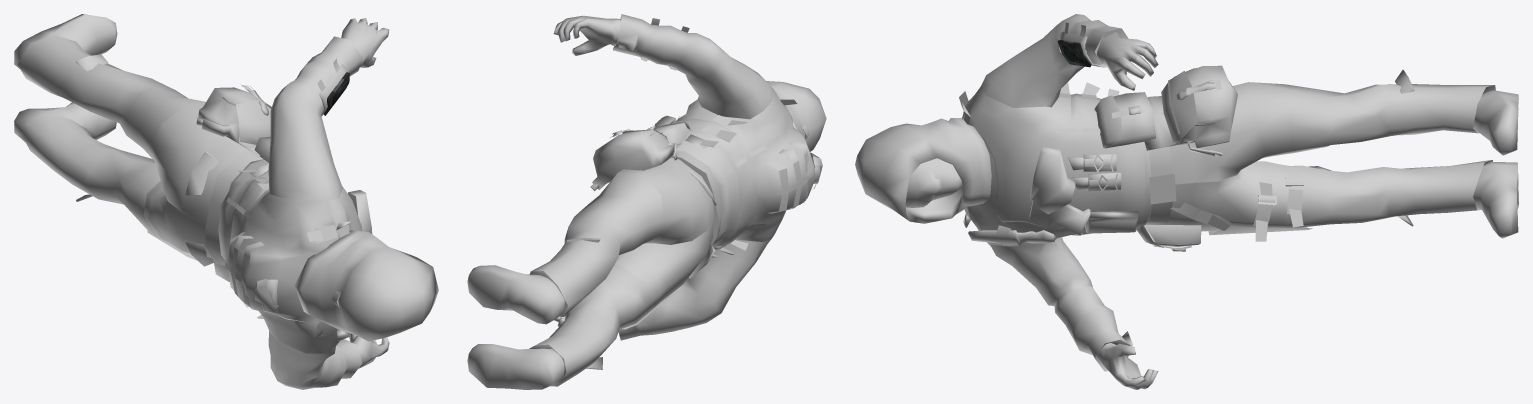
Rendered from c_mul_mp_pmc_sniper_fb_LOD1.obj.
The picture shows the model from 3 angles, left to right: view 1: azimuth 30°, elevation 25°; view 2: azimuth 150°, elevation 25°; view 3: azimuth 270°, elevation 25°; orthographic projection. The views are drawn at different scales.
Visible parts, largest first — view 1: mtl_c_mul_mp_pmc_snip_gear, mtl_c_mul_mp_pmc_lbr_2_1, mtl_c_mul_mp_pmc_upperbody2, mtl_c_mul_mp_pmc_gear_main_1, mtl_c_mul_mp_pmc_gloves2, mtl_c_gen_mp_datapad; view 2: mtl_c_mul_mp_pmc_lbr_2_1, mtl_c_mul_mp_pmc_snip_gear, mtl_c_mul_mp_pmc_upperbody2, mtl_c_mul_mp_pmc_gear_main_1, mtl_c_mul_mp_pmc_gloves2; view 3: mtl_c_mul_mp_pmc_snip_gear, mtl_c_mul_mp_pmc_lbr_2_1, mtl_c_mul_mp_pmc_upperbody2, mtl_c_mul_mp_pmc_gear_main_1, mtl_c_mul_mp_pmc_gloves2, mtl_c_gen_mp_datapad.
Boxes of the visible parts, <box> form: mtl_c_mul_mp_pmc_snip_gear: <box>196,36,438,389</box>; mtl_c_mul_mp_pmc_lbr_2_1: <box>17,35,248,266</box>; mtl_c_mul_mp_pmc_upperbody2: <box>218,159,362,353</box>; mtl_c_mul_mp_pmc_gear_main_1: <box>14,14,356,342</box>; mtl_c_mul_mp_pmc_gloves2: <box>341,18,389,368</box>; mtl_c_gen_mp_datapad: <box>323,72,349,115</box>; mtl_c_mul_mp_pmc_lbr_2_1: <box>529,157,716,386</box>; mtl_c_mul_mp_pmc_snip_gear: <box>590,14,826,340</box>; mtl_c_mul_mp_pmc_upperbody2: <box>676,90,815,257</box>; mtl_c_mul_mp_pmc_gear_main_1: <box>467,152,822,389</box>; mtl_c_mul_mp_pmc_gloves2: <box>553,15,620,326</box>; mtl_c_mul_mp_pmc_snip_gear: <box>855,14,1237,371</box>; mtl_c_mul_mp_pmc_lbr_2_1: <box>1166,69,1495,241</box>; mtl_c_mul_mp_pmc_upperbody2: <box>959,82,1151,247</box>; mtl_c_mul_mp_pmc_gear_main_1: <box>968,90,1518,245</box>; mtl_c_mul_mp_pmc_gloves2: <box>1096,32,1158,389</box>; mtl_c_gen_mp_datapad: <box>1058,40,1091,67</box>.
Size of the model in its own units: 67.54 by 106 by 185.
